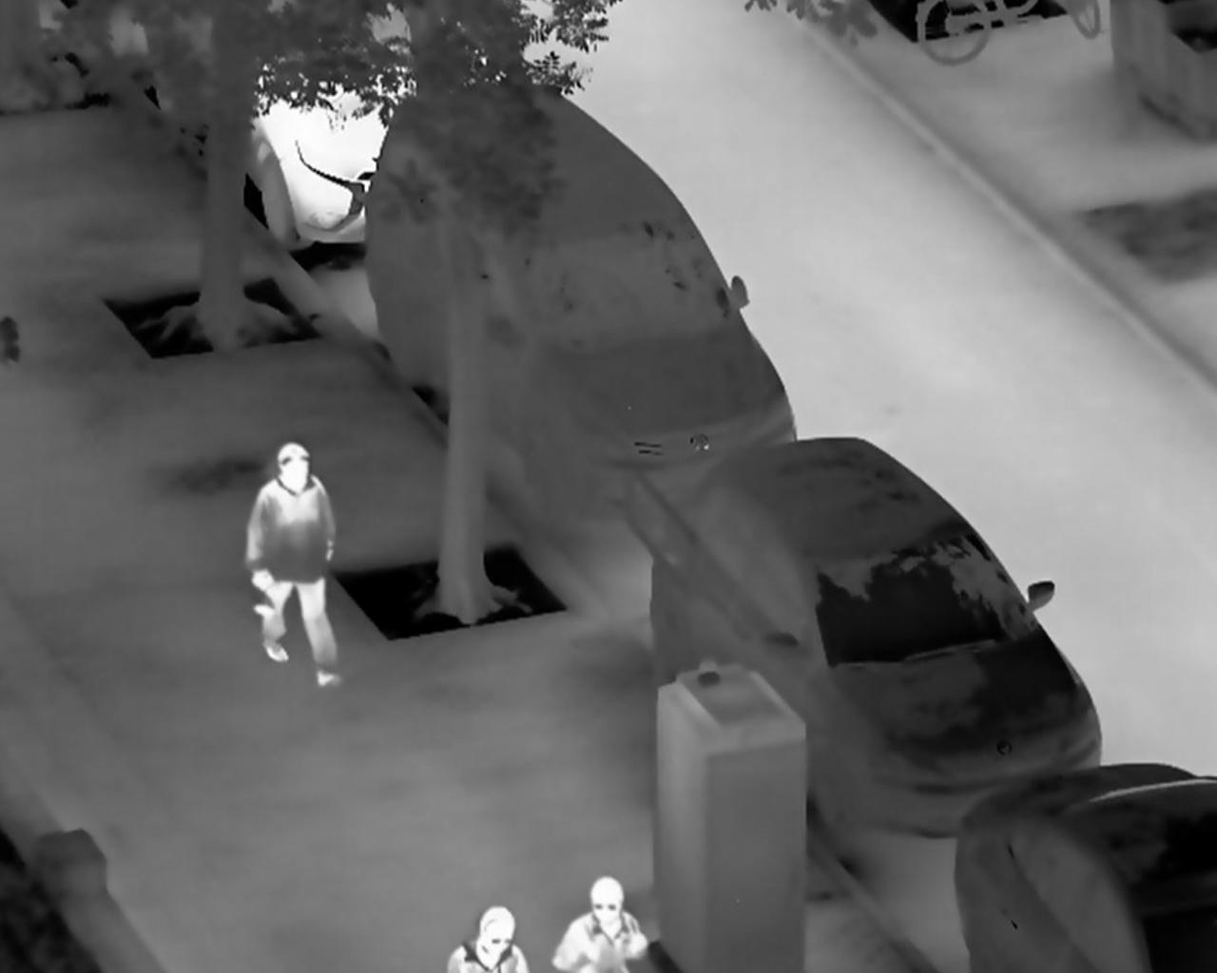person: (245, 439, 350, 693), (544, 866, 649, 973), (441, 902, 530, 972)
